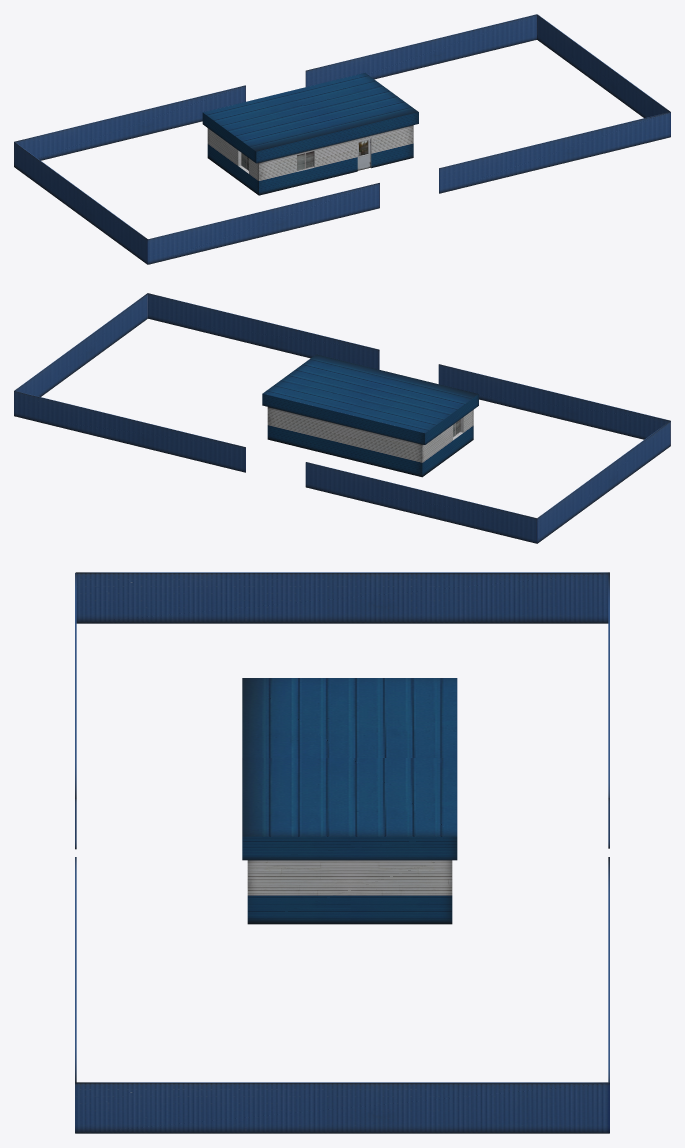
File: r254_stroyka.FBX
3 renders of one model, top to bottom at view 1: azimuth 30°, elevation 25°; view 2: azimuth 150°, elevation 25°; view 3: azimuth 270°, elevation 25°, orthographic. The views are drawn at different scales.
Parts seen in each view (by area): view 1: 1, 4, 5, 2, 3, 7, 6; view 2: 1, 3, 2, 4, 5, 7, 6; view 3: 1, 6, 7.
Part boxes in pixels (x1,y1,x2,y2): 1: (202,73,418,195); 4: (439,112,670,193); 5: (148,183,379,264); 2: (305,14,536,86); 3: (15,85,245,160); 7: (14,141,148,264); 6: (537,14,670,136); 1: (262,354,478,477); 3: (305,462,537,543); 2: (14,391,245,472); 4: (148,293,379,369); 5: (438,364,669,439); 7: (537,420,670,543); 6: (14,293,147,396); 1: (242,678,457,924); 6: (75,1082,609,1133); 7: (75,572,609,623).
Size of the model in its own units: 3908 by 1730 by 327.
